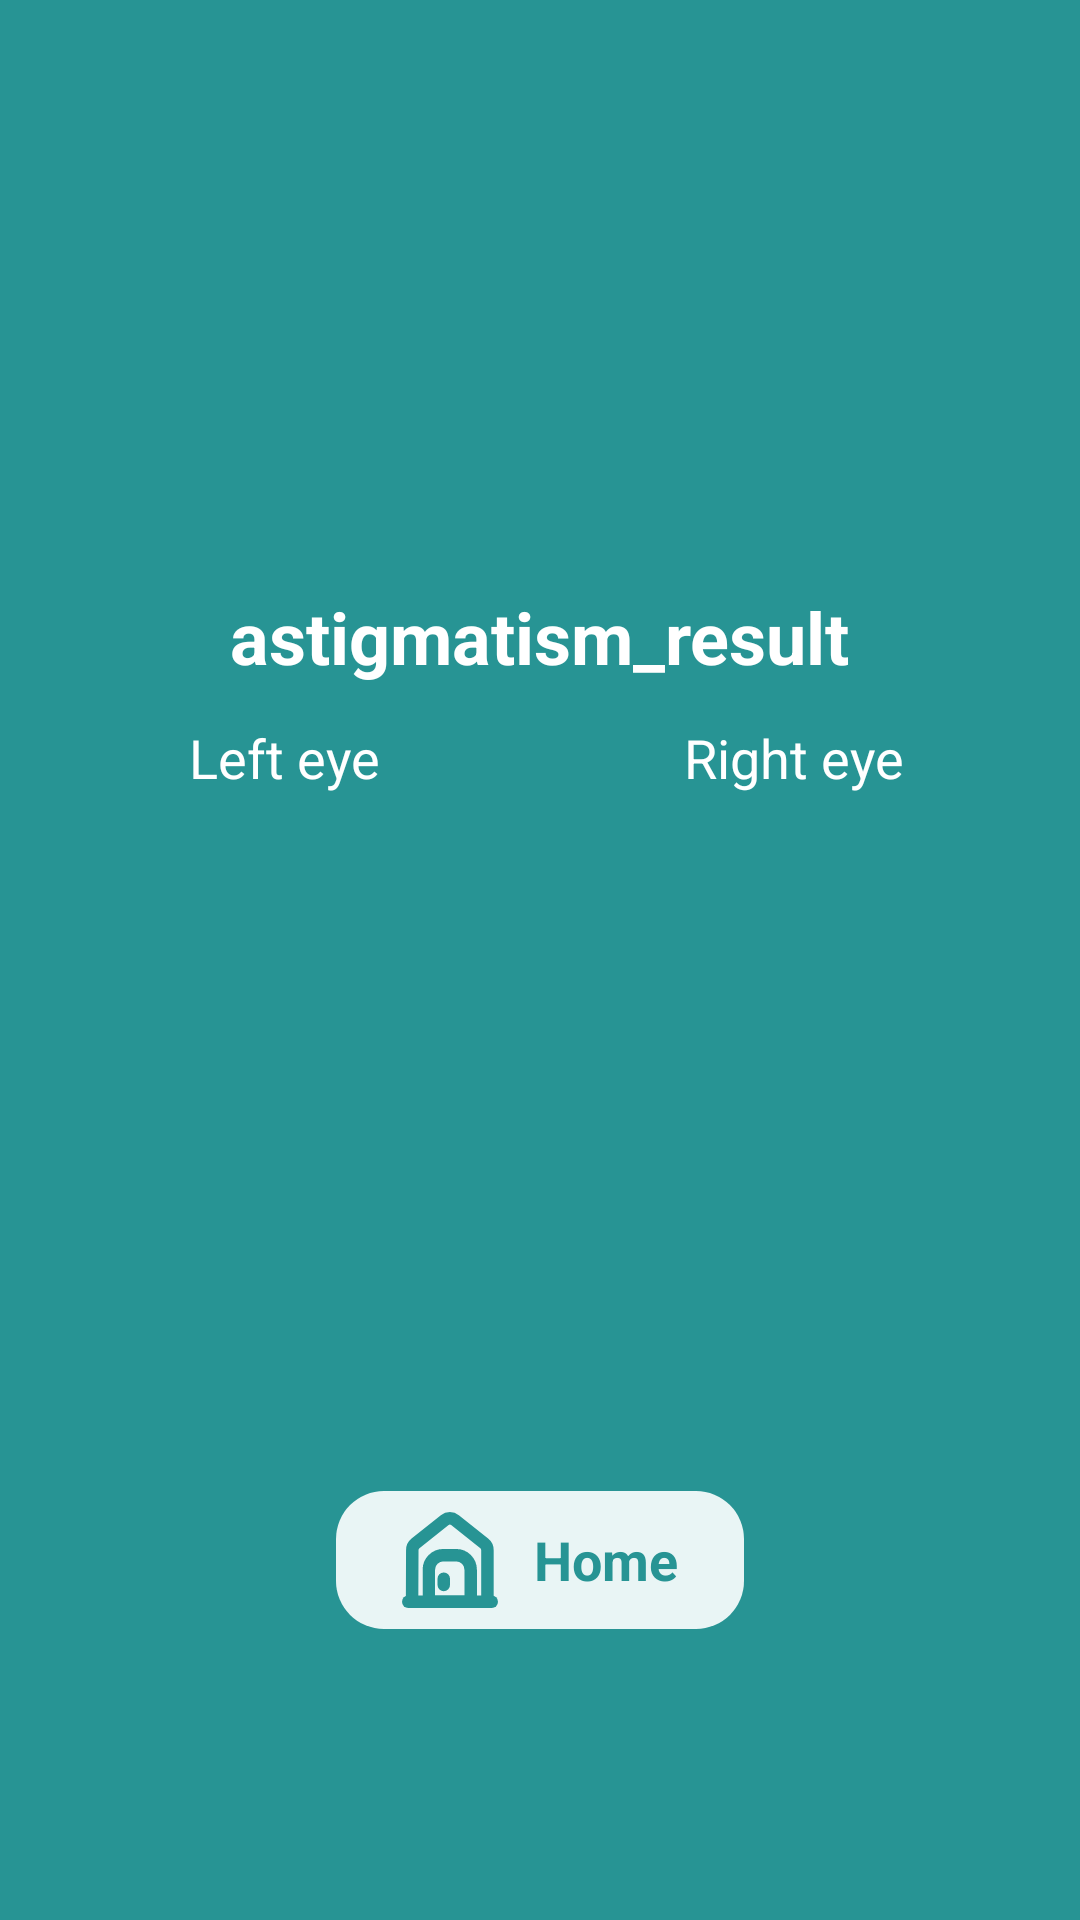

Locate icon controls on the screen. Image size 1080x1920, boxes as (x1, y1, x2, y2).
house: (402, 1512, 498, 1608)
